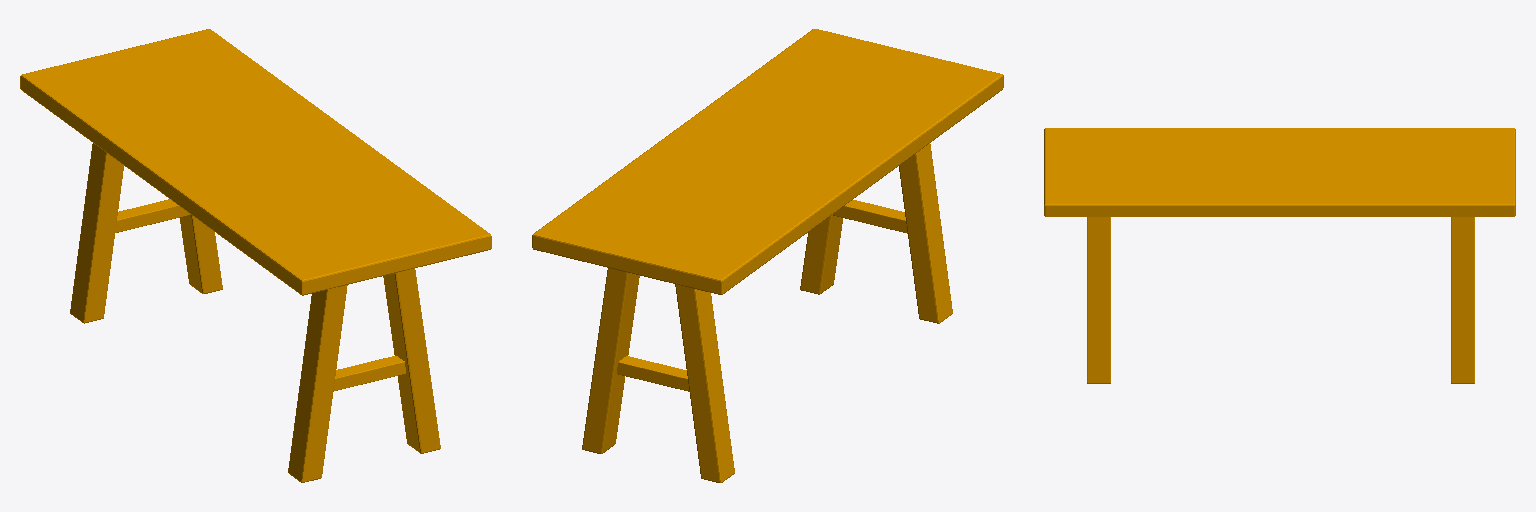
robot.urdf — aws_robomaker_residential_KitchenTable_01:
<?xml version="1.0" ?>
<robot name="aws_robomaker_residential_KitchenTable_01">
  <link name="link">
    <inertial>
      <origin xyz="0 0 0" rpy="0 0 0"/>
      <mass value="1.0"/>
      <inertia ixx="0.1" ixy="0.0" ixz="0.0" iyy="0.1" iyz="0.0" izz="0.1"/>
    </inertial>
    <visual name="visual">
      <origin xyz="0 0 0" rpy="0 0 0"/>
      <geometry>
        <mesh filename="meshes/aws_KitchenTable_02_visual.DAE"/>
      </geometry>
    </visual>
    <collision name="collision">
      <origin xyz="0 -0.0155 0" rpy="0 0 0"/>
      <geometry>
        <mesh filename="meshes/aws_KitchenTable_01_collision.DAE"/>
      </geometry>
    </collision>
  </link>
</robot>

--- Facts derived from the render (not from the file) ---
The picture shows the robot from 3 angles, left to right: view 1: azimuth 30°, elevation 25°; view 2: azimuth 150°, elevation 25°; view 3: azimuth 270°, elevation 25°; orthographic projection.
Model aws_robomaker_residential_KitchenTable_01 with 1 links and 0 joints (none), rooted at link, posed all joints at 0.
Visible links, largest first — view 1: link; view 2: link; view 3: link.
Link boxes in pixels (left/top/right/bottom): link: left=20, top=29, right=491, bottom=482; link: left=532, top=29, right=1003, bottom=482; link: left=1044, top=128, right=1515, bottom=383.
Size in the robot's own frame: 0.7 by 1.8 by 0.8014 metres.
1 mesh visuals loaded from 1 distinct referenced files (1 Collada DAE).